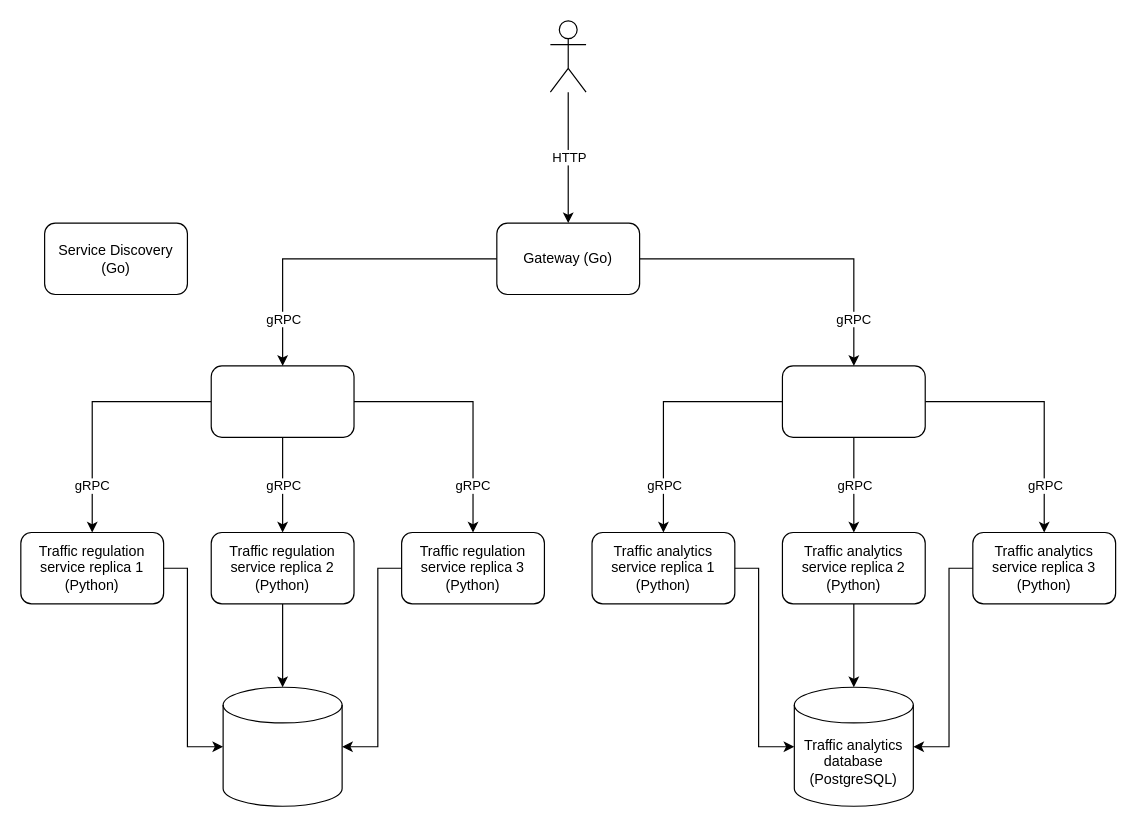
The diagram is 1136 pixels wide and 827 high, and some of its shapes have lost their labels. The shapes that lost their labels are listed below. From the top down, each one's box as (x1, y1, x2, y2) in pixels, then its label:
(549, 20, 586, 92): Client
(210, 365, 354, 437): Traffic regulation load balancer (Python)
(781, 365, 925, 437): Traffic analytics load balancer (Python)
(222, 686, 342, 806): Traffic regulation database (PostgreSQL)
